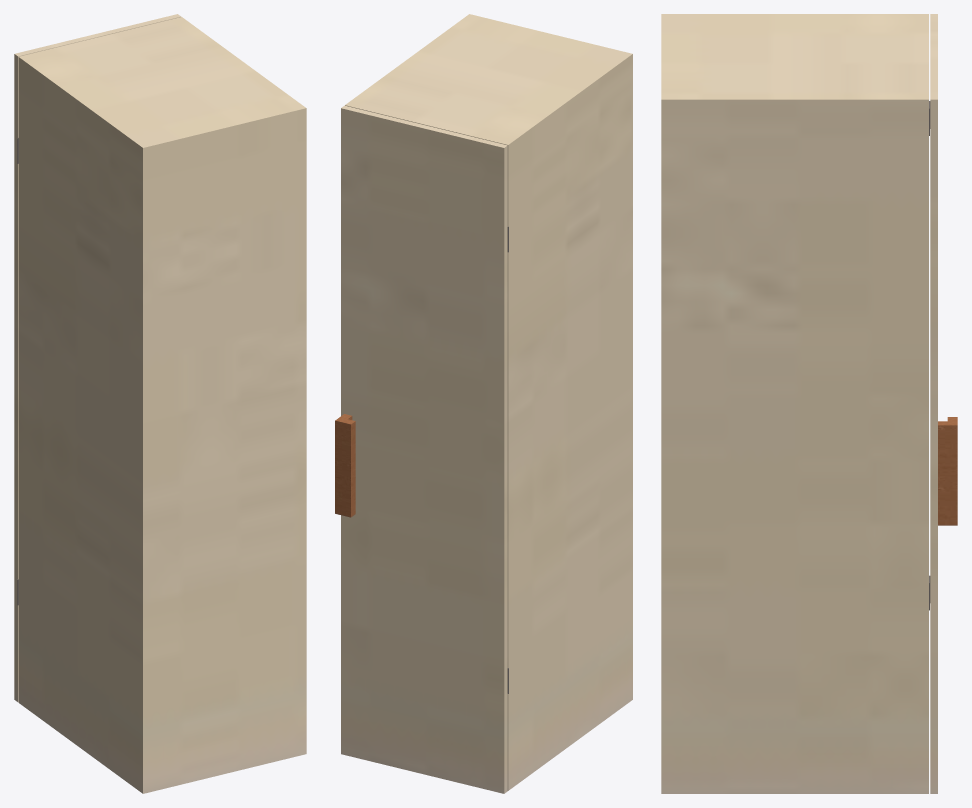
Rendered from Closet26.glb.
The picture shows the model from 3 angles, left to right: view 1: azimuth 30°, elevation 25°; view 2: azimuth 150°, elevation 25°; view 3: azimuth 270°, elevation 25°; orthographic projection. The views are drawn at different scales.
Visible parts, largest first — view 1: Closet26_model, Closet26Door; view 2: Closet26Door, Closet26_model; view 3: Closet26_model, Closet26Door.
Part boxes in pixels (x1,y1,x2,y2): Closet26_model: [17, 17, 306, 793]; Closet26Door: [14, 14, 181, 702]; Closet26Door: [335, 105, 508, 793]; Closet26_model: [345, 14, 632, 790]; Closet26_model: [661, 14, 930, 793]; Closet26Door: [929, 14, 957, 793].
Bounding box in the file's own units: 1.49 × 5.6 × 2.17.
Materials: 1 (1 with a texture image).
